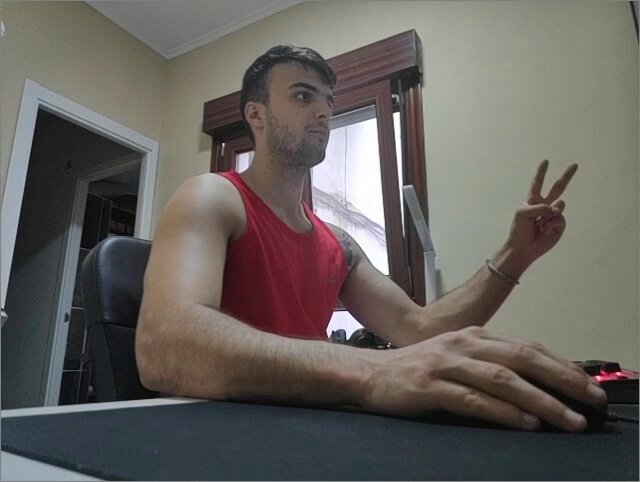Peace: (507, 159, 581, 248)
